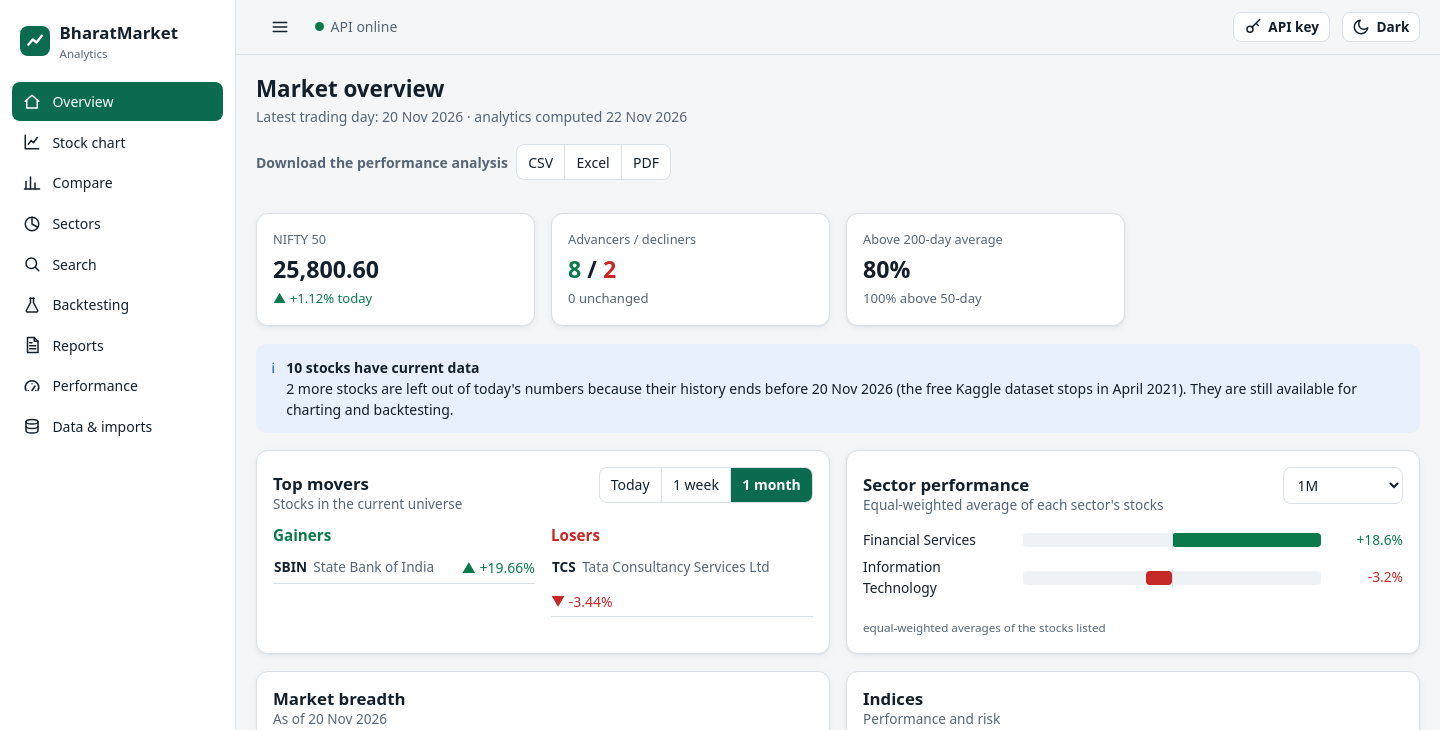
Scenario: Overview page › lists movers and opens a stock from one
Expected: the heading "Gainers" is shown, x1=273 y1=525 x2=331 y2=545
Expected: the text "+19.66%" is shown, x1=480 y1=558 x2=535 y2=577
Click the button "Today" at (631, 485), box x1=600 y1=468 x2=662 y2=502
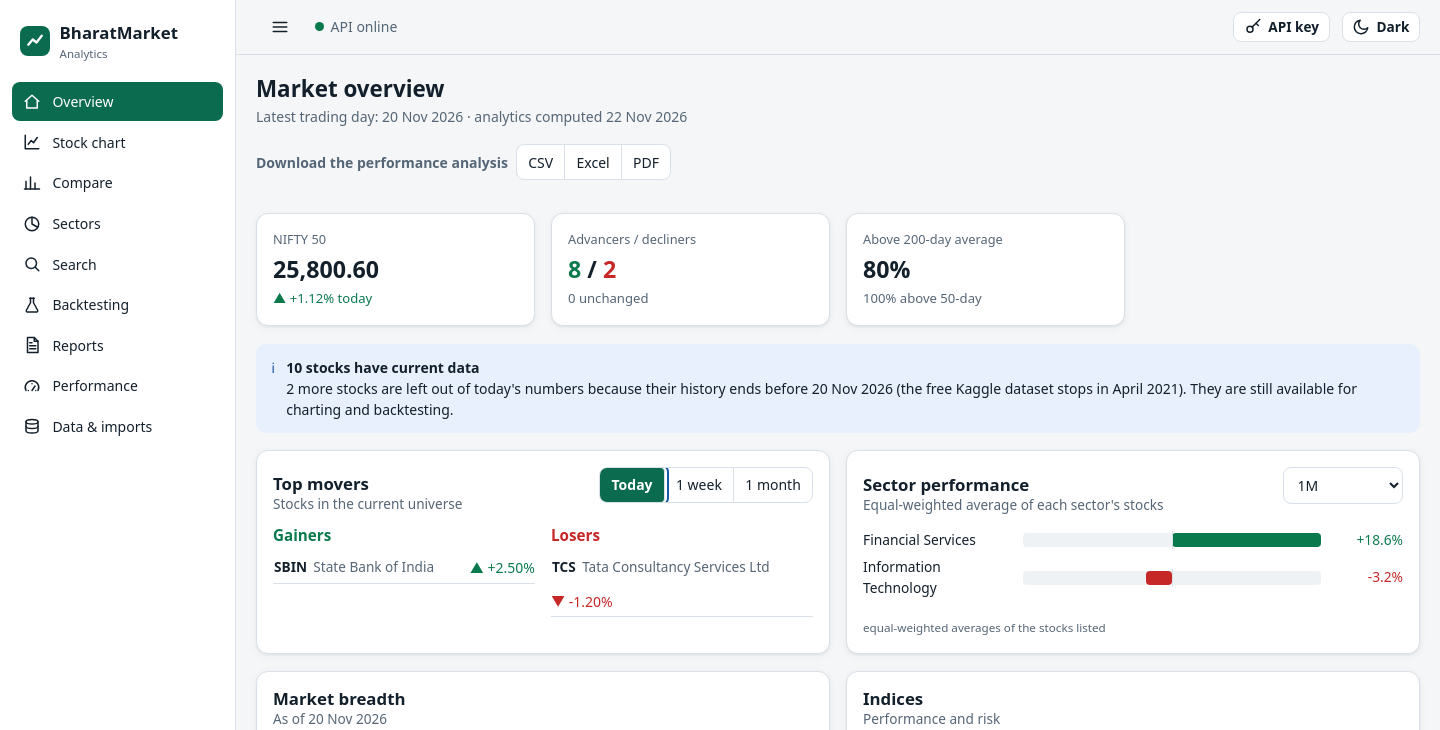
Now the text "+2.50%" is shown, box x1=488 y1=558 x2=535 y2=577
